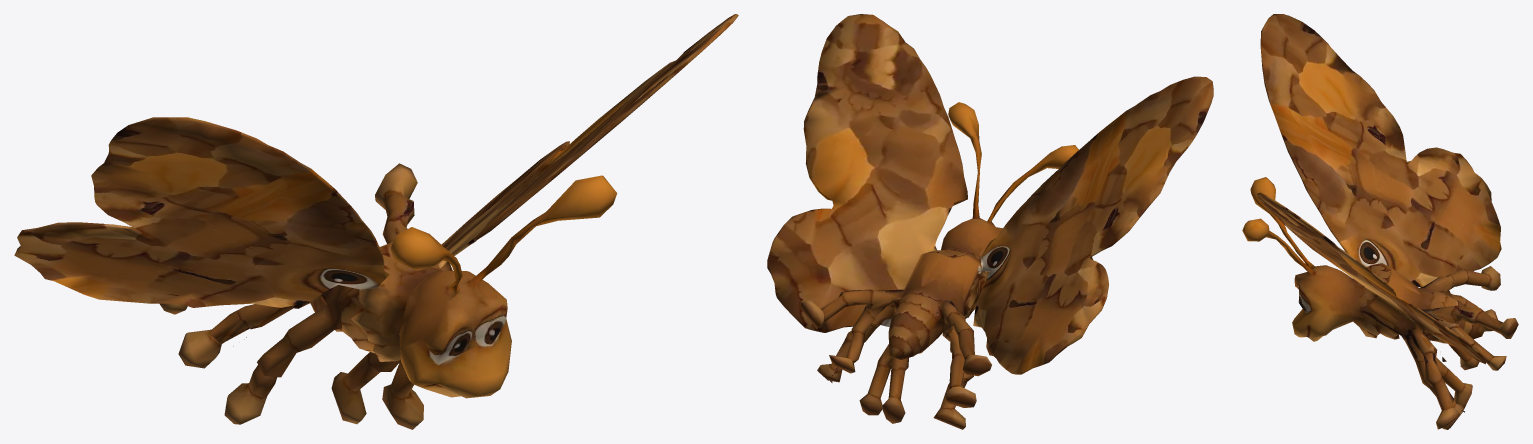
File: gourd-posed-butterfly.glb
The picture shows the model from 3 angles, left to right: view 1: azimuth 30°, elevation 25°; view 2: azimuth 150°, elevation 25°; view 3: azimuth 270°, elevation 25°; orthographic projection. The views are drawn at different scales.
Parts seen in each view (by area): view 1: animal-butterfly_Fly; view 2: animal-butterfly_Fly; view 3: animal-butterfly_Fly.
Part boxes in pixels (left/top/right/bottom): animal-butterfly_Fly: left=14, top=14, right=738, bottom=429; animal-butterfly_Fly: left=767, top=14, right=1213, bottom=429; animal-butterfly_Fly: left=1242, top=14, right=1518, bottom=429.
Size of the model in its own units: 0.1047 by 0.0853 by 0.0705.
1 material, 1 textured.
